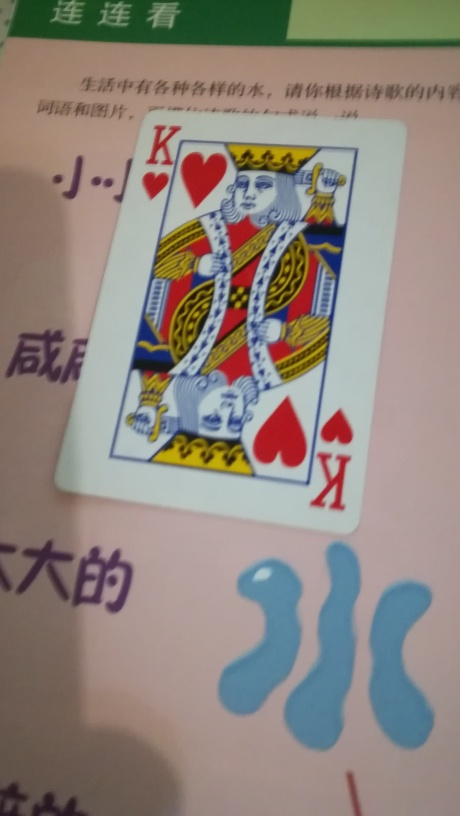hx k: (81, 104, 395, 531)
